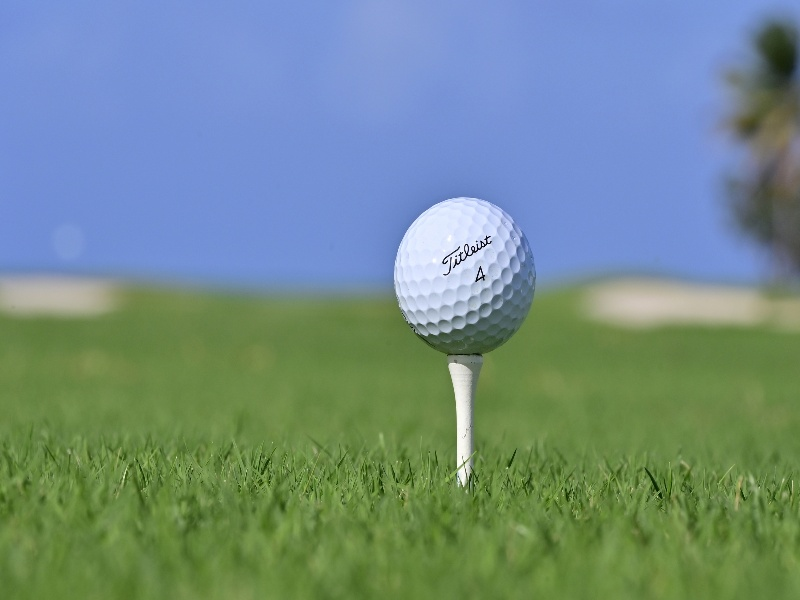golf_ball: (393, 197, 536, 355)
